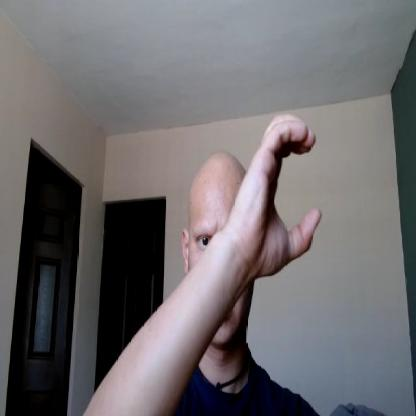C: (235, 111, 322, 280)
